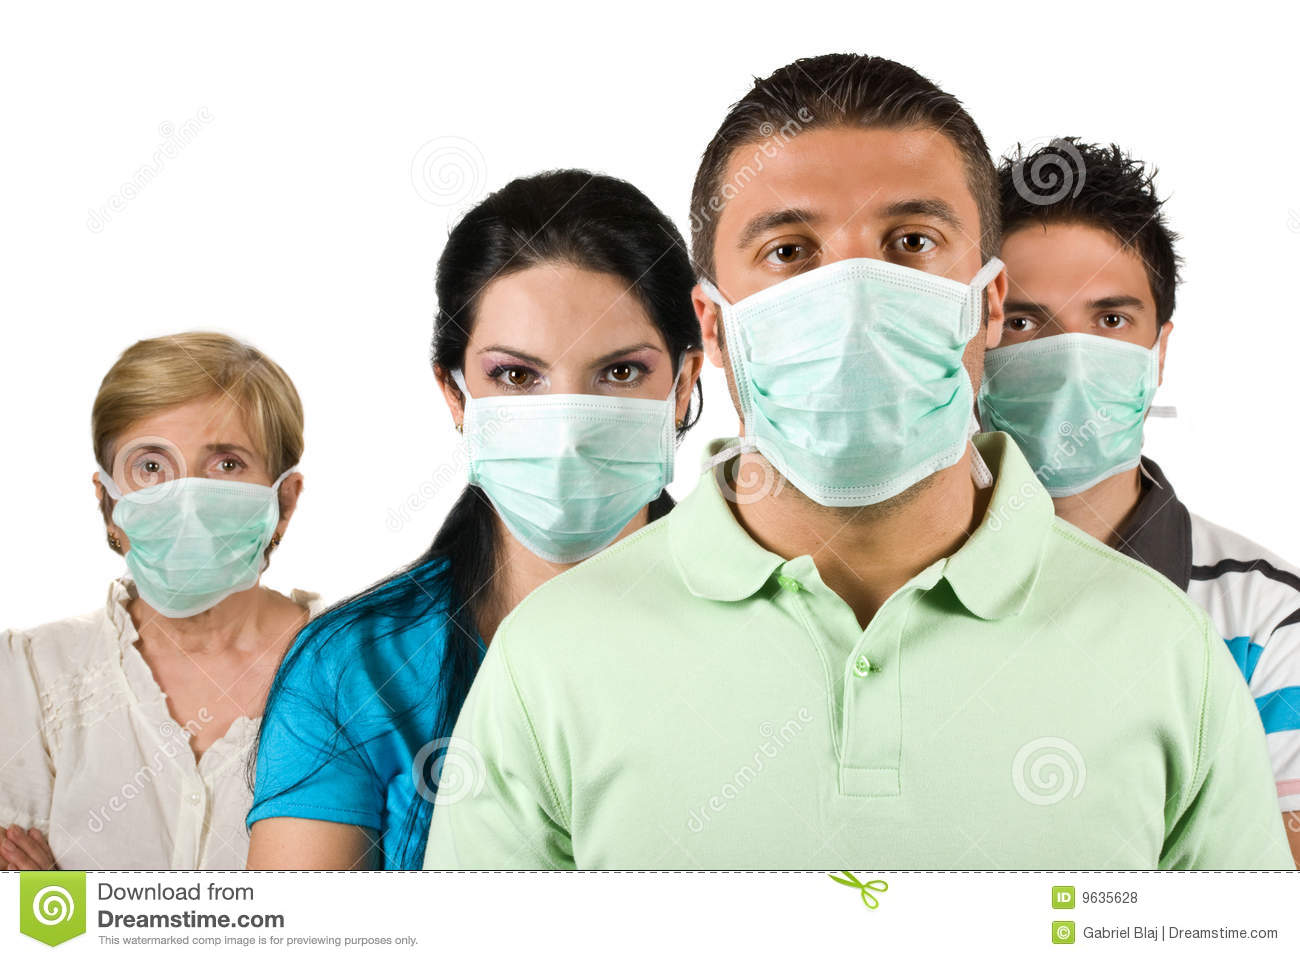mask: (716, 262, 977, 513), (457, 390, 678, 563), (986, 335, 1157, 496), (115, 479, 274, 615)
